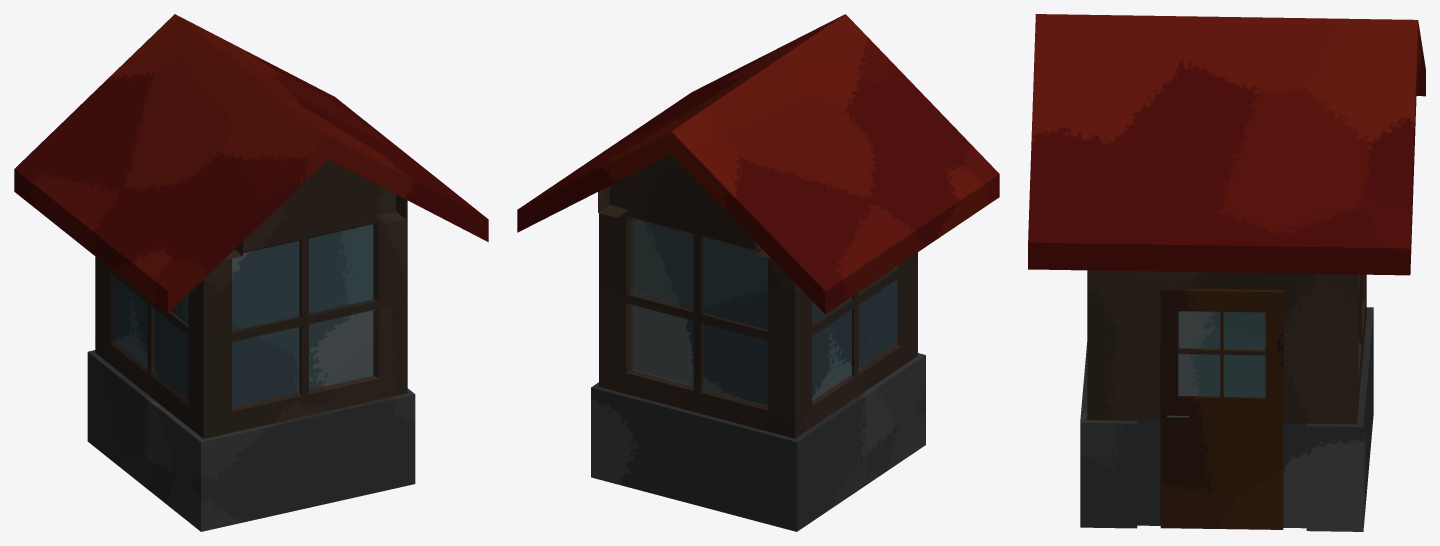
The model's file is Guard Post Export.glb.
3 views of the same model, side by side, from view 1: azimuth 30°, elevation 25°; view 2: azimuth 150°, elevation 25°; view 3: azimuth 270°, elevation 25° (orthographic). The views are drawn at different scales.
Parts seen in each view (by area): view 1: Plane.006; view 2: Plane.006; view 3: Plane.006.
Boxes of the visible parts, box(x1,y1,x2,y2) form: Plane.006: box(14, 14, 488, 531); Plane.006: box(517, 14, 999, 531); Plane.006: box(1028, 14, 1425, 531).
Size of the model in its own units: 15.84 by 18.08 by 14.39.
Materials: 1 (1 with a texture image).
